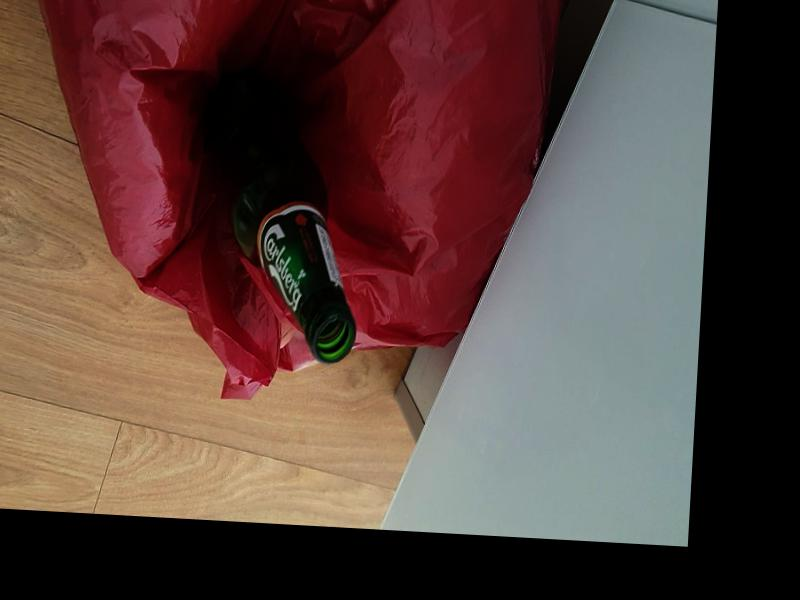Beer: (189, 73, 367, 366)
